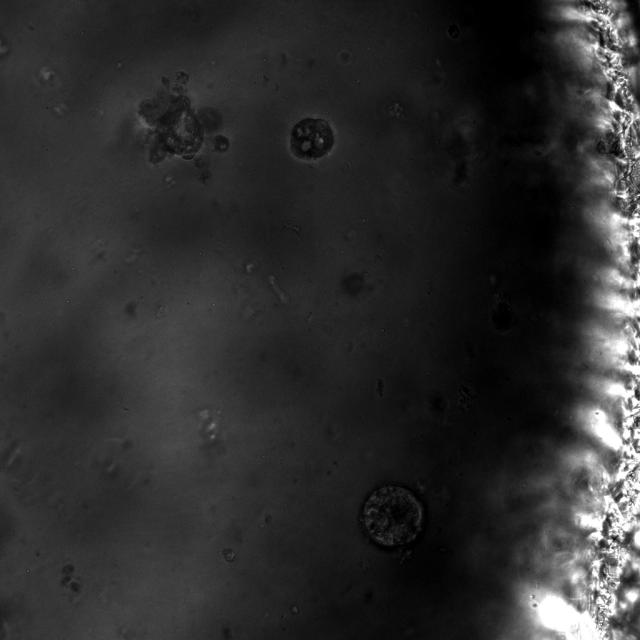organoid: (133, 70, 227, 186), (360, 484, 425, 547), (289, 117, 334, 161), (213, 134, 229, 152)
